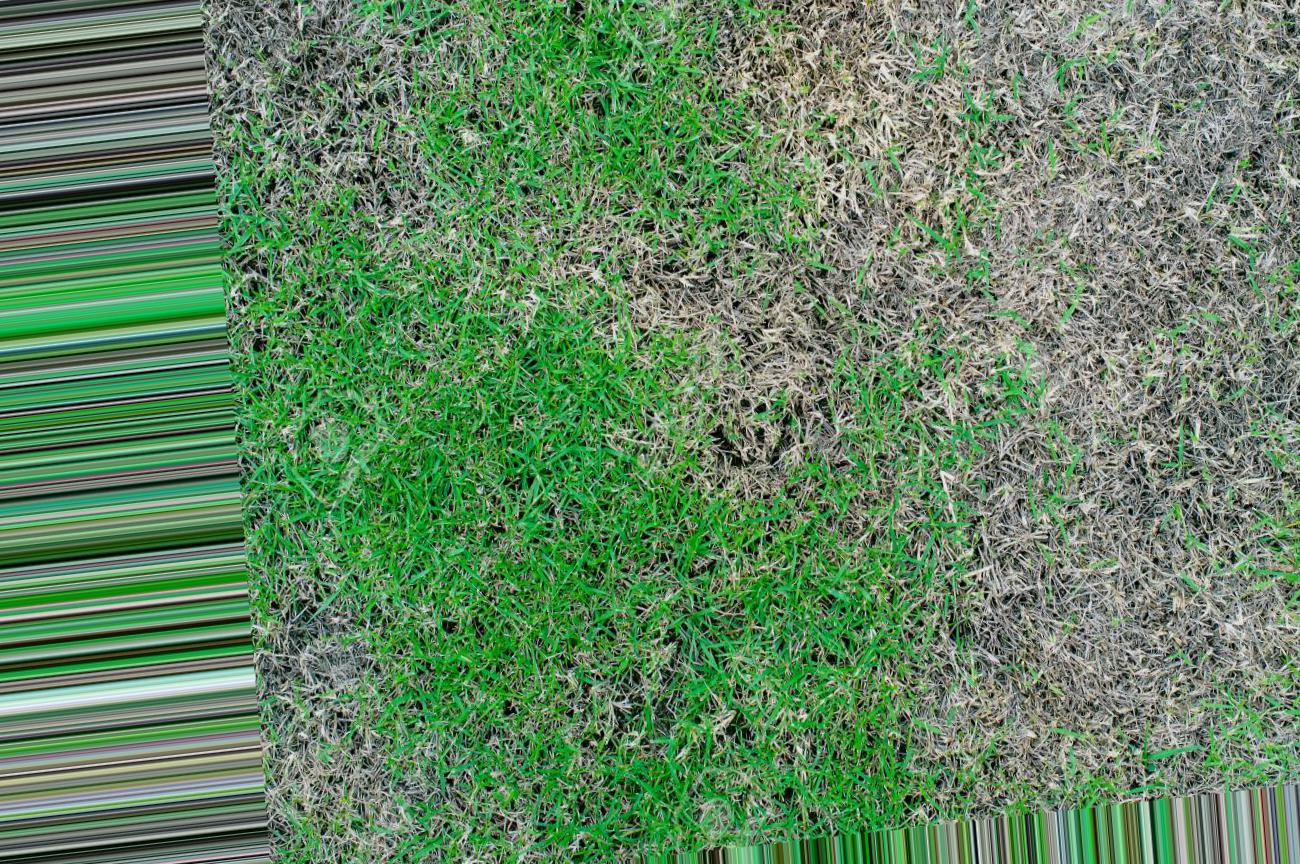patch: (1061, 82, 1232, 319), (905, 146, 1076, 326), (1059, 363, 1191, 539), (810, 17, 957, 168), (232, 39, 386, 178), (1047, 575, 1205, 687), (757, 290, 827, 373)
